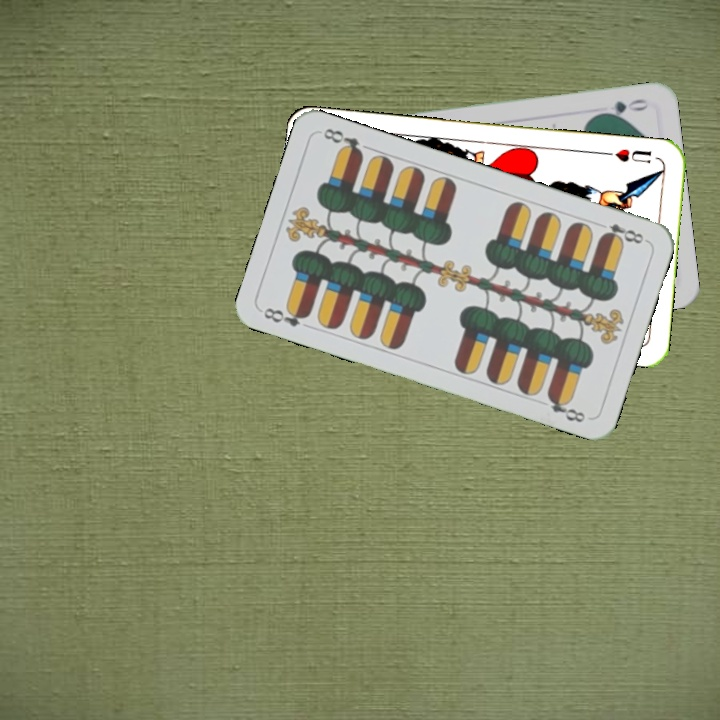E8: (593, 218, 649, 247), (259, 302, 313, 330)
GO: (593, 95, 652, 120)
HU: (601, 144, 655, 166)
